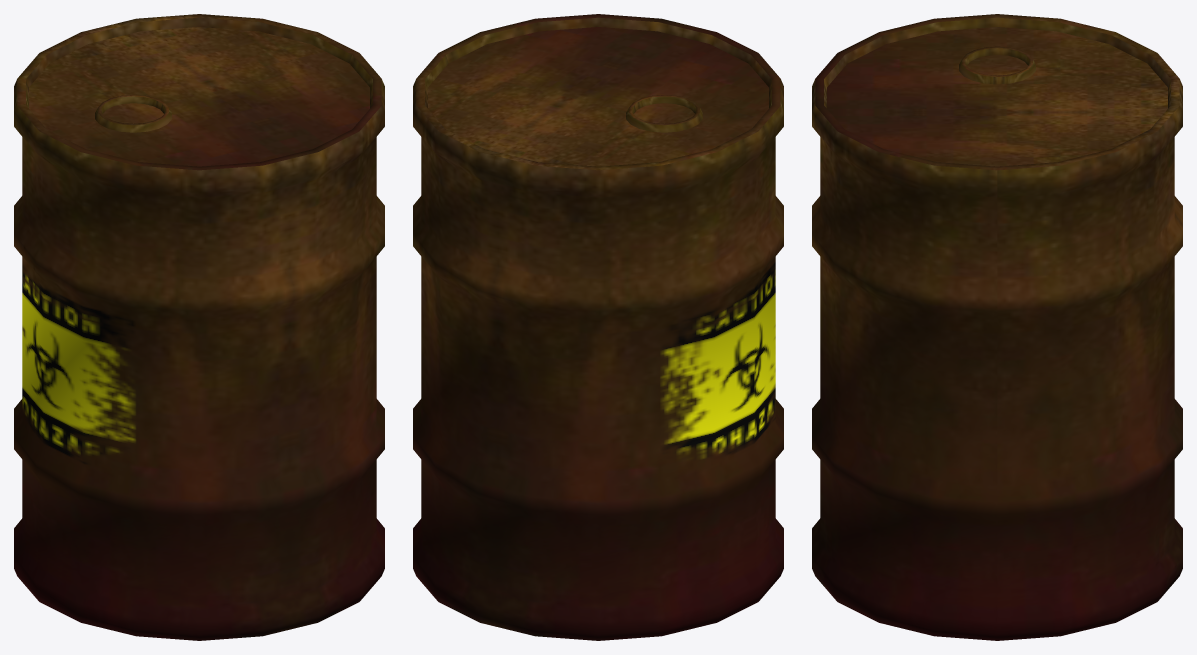
The model's file is barrel.FBX.
The picture shows the model from 3 angles, left to right: view 1: azimuth 30°, elevation 25°; view 2: azimuth 150°, elevation 25°; view 3: azimuth 270°, elevation 25°; orthographic projection.
Visible parts, largest first — view 1: Cylinder001; view 2: Cylinder001; view 3: Cylinder001.
Boxes of the visible parts, <box> form: Cylinder001: <box>14,14,384,640</box>; Cylinder001: <box>413,14,783,640</box>; Cylinder001: <box>812,14,1182,640</box>.
Bounding box in the file's own units: 32.44 × 31.95 × 44.72.
Materials: 1 (1 with a texture image).
